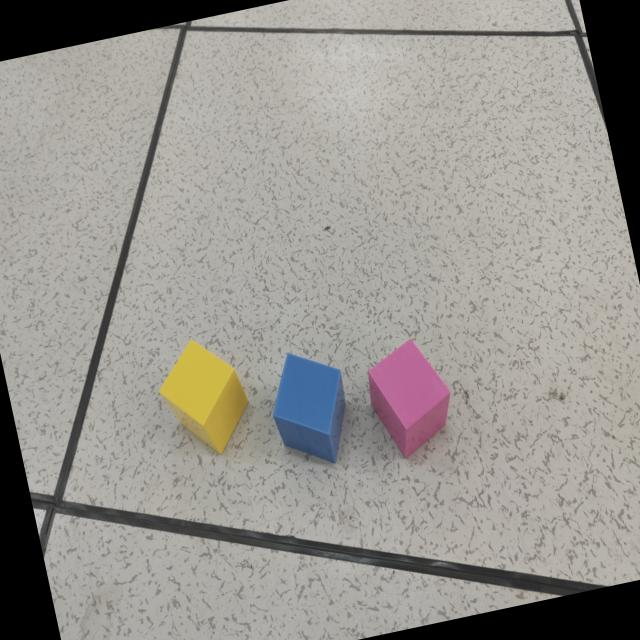blue: (273, 354, 346, 464)
pink: (367, 340, 452, 458)
yellow: (158, 341, 249, 455)
